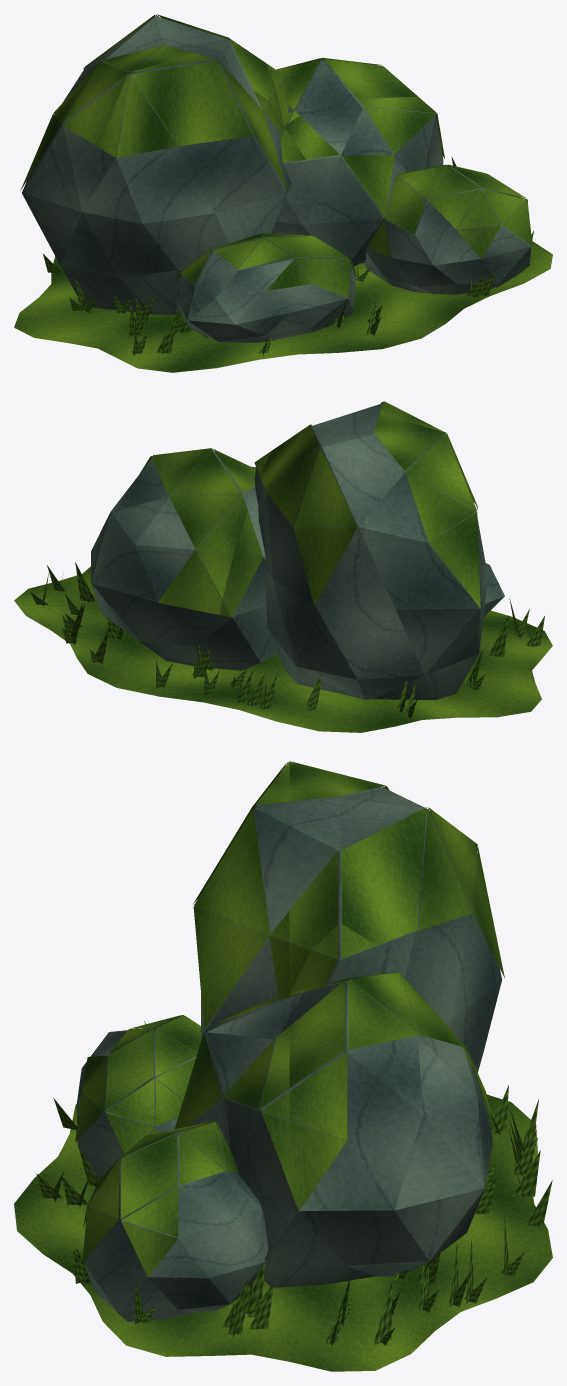
The model's file is moss-boulder-group.glb.
3 views of the same model, one above another, from view 1: azimuth 30°, elevation 25°; view 2: azimuth 150°, elevation 25°; view 3: azimuth 270°, elevation 25° (orthographic). The views are drawn at different scales.
Parts seen in each view (by area): view 1: moss-boulder-group_props-rock, moss-boulder-group_props-moss, moss-boulder-group_props-grass; view 2: moss-boulder-group_props-rock, moss-boulder-group_props-moss, moss-boulder-group_props-grass; view 3: moss-boulder-group_props-moss, moss-boulder-group_props-rock, moss-boulder-group_props-grass.
Boxes of the visible parts, x1,y1,x2,y2 form: moss-boulder-group_props-rock: [22, 16, 530, 342]; moss-boulder-group_props-moss: [14, 14, 552, 372]; moss-boulder-group_props-grass: [43, 157, 533, 355]; moss-boulder-group_props-rock: [91, 403, 504, 699]; moss-boulder-group_props-moss: [14, 401, 552, 732]; moss-boulder-group_props-grass: [30, 562, 544, 718]; moss-boulder-group_props-moss: [14, 761, 552, 1371]; moss-boulder-group_props-rock: [76, 766, 502, 1321]; moss-boulder-group_props-grass: [36, 1021, 552, 1346].
Size of the model in its own units: 2.39 by 1.3 by 1.6.
3 materials, 3 textured.
